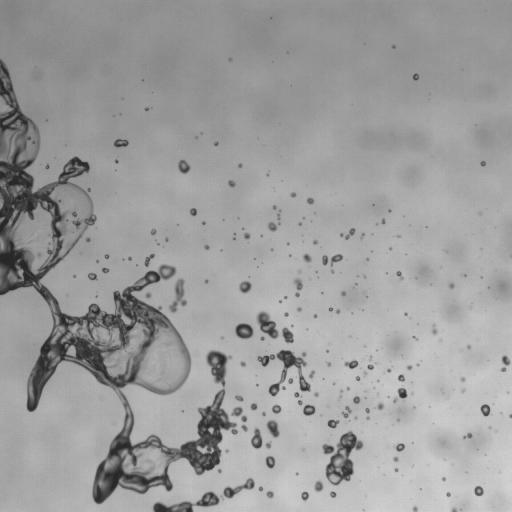droplet: (257, 350, 310, 397), (322, 430, 363, 485), (256, 311, 278, 338), (235, 323, 253, 339), (230, 406, 247, 422), (251, 428, 262, 449), (266, 420, 279, 437), (393, 387, 407, 402), (282, 327, 293, 343), (501, 355, 511, 371), (178, 160, 190, 173), (239, 281, 251, 293), (344, 360, 359, 369), (303, 404, 315, 415), (113, 139, 128, 147), (480, 404, 490, 416), (265, 456, 275, 468), (268, 222, 280, 231), (342, 406, 351, 418), (327, 419, 338, 428), (314, 480, 323, 491), (474, 486, 483, 496), (302, 254, 311, 263), (272, 404, 281, 413), (394, 443, 404, 451), (431, 324, 437, 335), (301, 491, 308, 500), (396, 271, 403, 279), (88, 273, 96, 280), (376, 402, 383, 410), (308, 370, 314, 379), (228, 180, 235, 187), (353, 396, 360, 403), (250, 403, 257, 410), (266, 491, 273, 498), (235, 395, 243, 401), (463, 433, 472, 438), (307, 197, 313, 204), (190, 208, 196, 215), (244, 232, 250, 239), (398, 374, 404, 381), (145, 292, 151, 298), (330, 491, 336, 497), (413, 73, 418, 80), (102, 268, 109, 273), (367, 364, 374, 369), (242, 424, 247, 431), (406, 365, 412, 370), (265, 442, 270, 448), (451, 507, 458, 511), (480, 161, 485, 166), (290, 192, 295, 197), (151, 229, 156, 234), (449, 283, 454, 288), (240, 361, 245, 366), (288, 378, 293, 383), (297, 400, 302, 405), (393, 456, 398, 461), (412, 506, 417, 511), (45, 164, 49, 169), (204, 245, 209, 249), (335, 309, 340, 313), (327, 361, 331, 366), (460, 377, 465, 381), (314, 392, 319, 396), (238, 163, 242, 167), (272, 205, 276, 209), (381, 219, 385, 223), (86, 238, 90, 242), (313, 240, 317, 244), (104, 254, 108, 258), (341, 291, 345, 295), (297, 307, 301, 311), (284, 312, 288, 316), (260, 336, 264, 340), (387, 368, 391, 372), (363, 371, 367, 375), (365, 408, 369, 412), (446, 492, 450, 496), (214, 142, 218, 145), (314, 314, 317, 318), (356, 376, 359, 380), (145, 107, 148, 110), (329, 307, 332, 310), (414, 337, 417, 340), (467, 345, 470, 348), (369, 357, 372, 360), (461, 389, 464, 392), (262, 412, 265, 415), (218, 469, 221, 472), (259, 487, 262, 490), (509, 414, 511, 418), (361, 234, 363, 237), (165, 238, 168, 240), (128, 257, 131, 259), (298, 270, 300, 273), (331, 270, 334, 272), (205, 280, 208, 282), (346, 387, 349, 389), (226, 449, 228, 452), (395, 468, 397, 471), (442, 478, 445, 480), (115, 160, 117, 162), (202, 222, 204, 224), (299, 222, 301, 224), (279, 300, 281, 302)
ligament: (0, 59, 237, 500), (152, 478, 254, 511), (169, 278, 186, 312), (322, 254, 342, 265), (340, 228, 355, 239), (294, 278, 302, 296), (144, 254, 154, 266), (277, 211, 280, 219)
